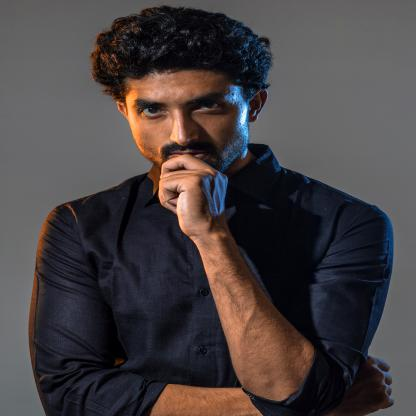Eye: (191, 98, 229, 114), (138, 103, 172, 120)
Mouth: (166, 148, 210, 162)
Nose: (171, 113, 202, 146)
